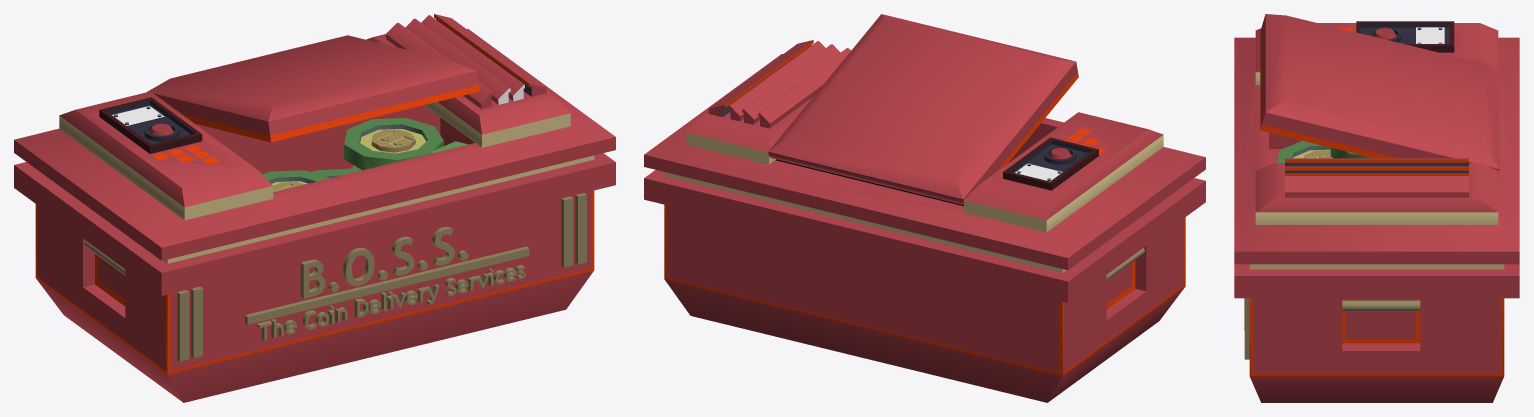
The model's file is Treasure_Chest.fbx.
3 renders of one model, left to right at view 1: azimuth 30°, elevation 25°; view 2: azimuth 150°, elevation 25°; view 3: azimuth 270°, elevation 25°, orthographic. The views are drawn at different scales.
Visible parts, largest first — view 1: Model; view 2: Model; view 3: Model.
Part boxes in pixels (x1=…): Model: x1=14, y1=14, x2=615, y2=402; Model: x1=644, y1=14, x2=1205, y2=402; Model: x1=1234, y1=14, x2=1519, y2=402.
Bounding box in the file's own units: 171 × 94.94 × 96.02.
